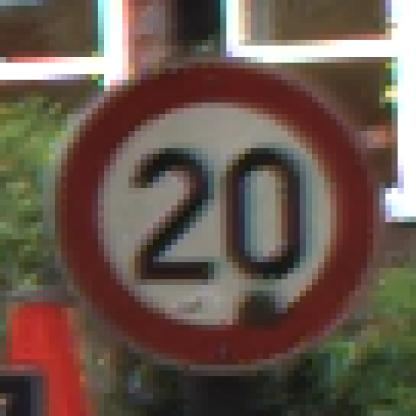Speed Limit 20: (62, 64, 378, 365)
